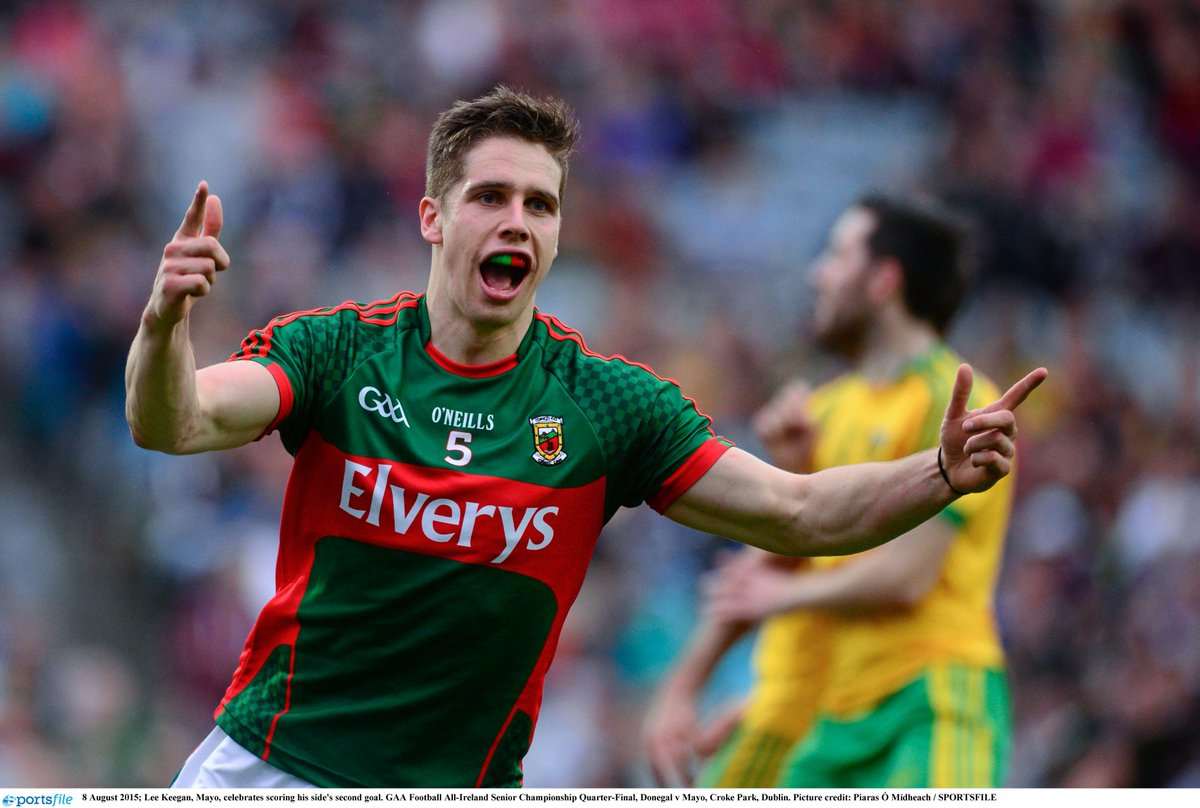player: (111, 48, 729, 789), (766, 182, 1025, 782)
